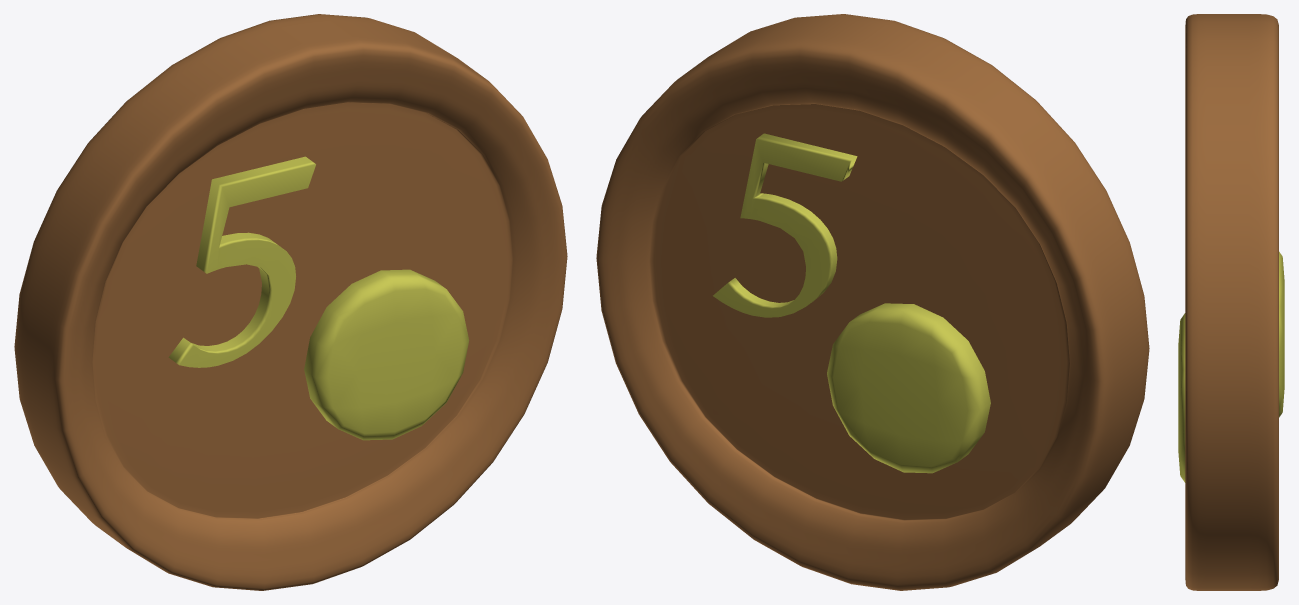
The model's file is 5cent.fbx.
3 views of the same model, side by side, from view 1: azimuth 30°, elevation 25°; view 2: azimuth 150°, elevation 25°; view 3: azimuth 270°, elevation 25° (orthographic). The views are drawn at different scales.
Visible parts, largest first — view 1: pCylinder5, typeMesh7; view 2: pCylinder5, polySurface2; view 3: pCylinder5, typeMesh7, polySurface2.
Boxes of the visible parts, x1,y1,x2,y2 form: pCylinder5: (14,14,567,590); typeMesh7: (168,156,469,440); pCylinder5: (596,14,1149,590); polySurface2: (713,133,990,473); pCylinder5: (1185,14,1278,590); typeMesh7: (1178,313,1185,482); polySurface2: (1279,251,1284,417).
Size of the model in its own units: 3.63 by 3.63 by 0.6681.
